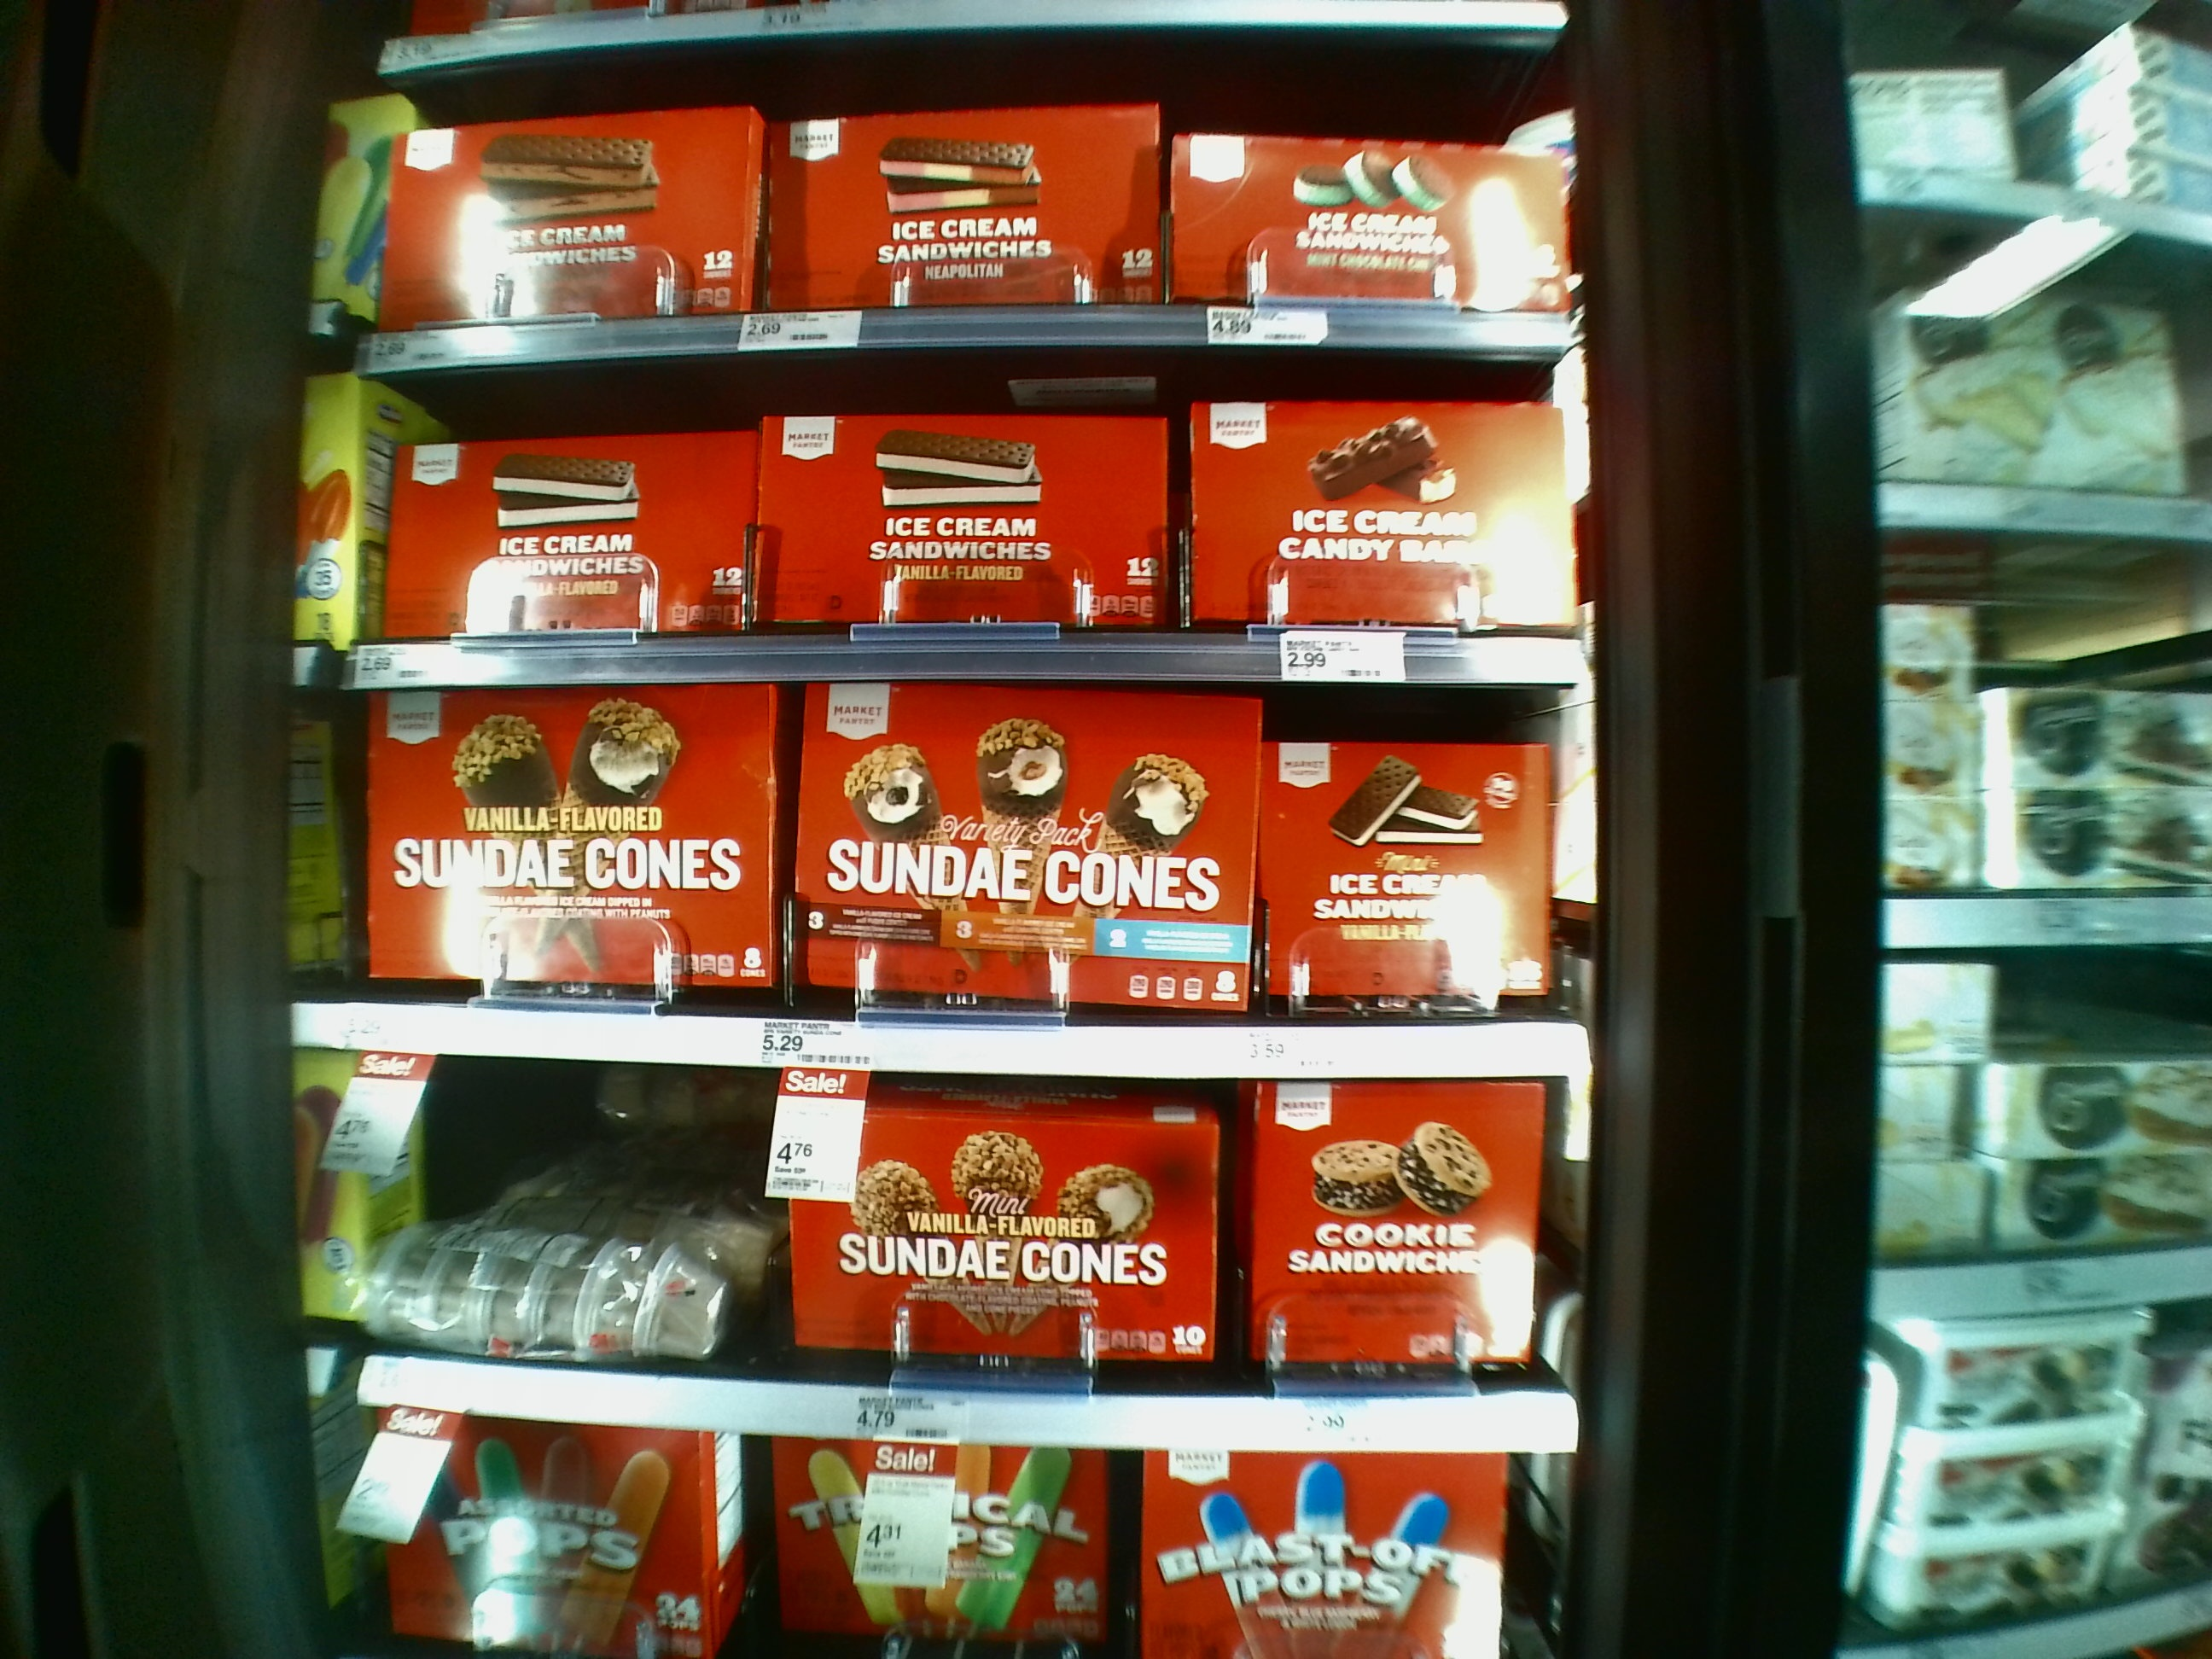shelf: (347, 690, 1588, 1075), (354, 1058, 1566, 1452), (364, 369, 1576, 673), (369, 71, 1576, 352)
